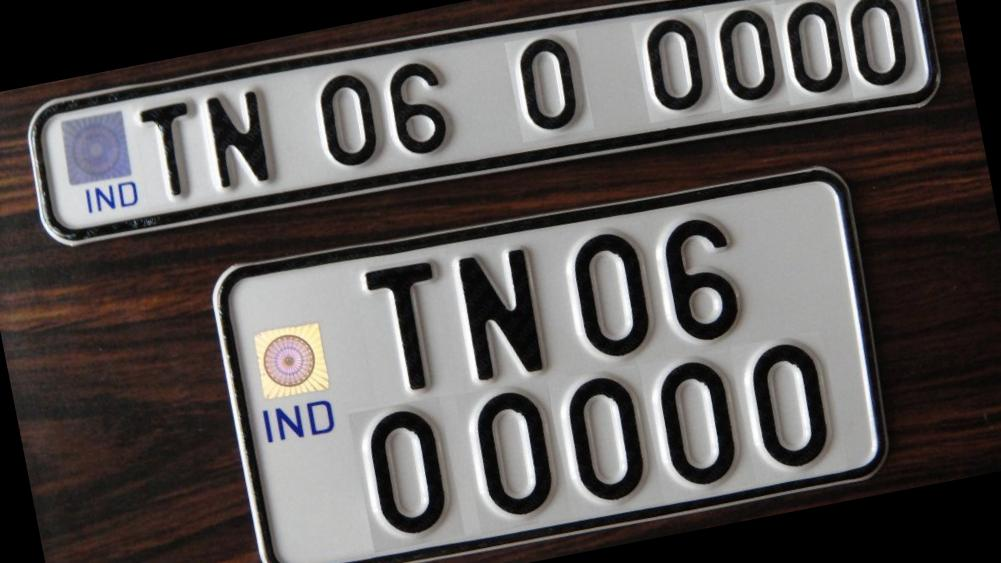plate: (202, 151, 911, 563)
